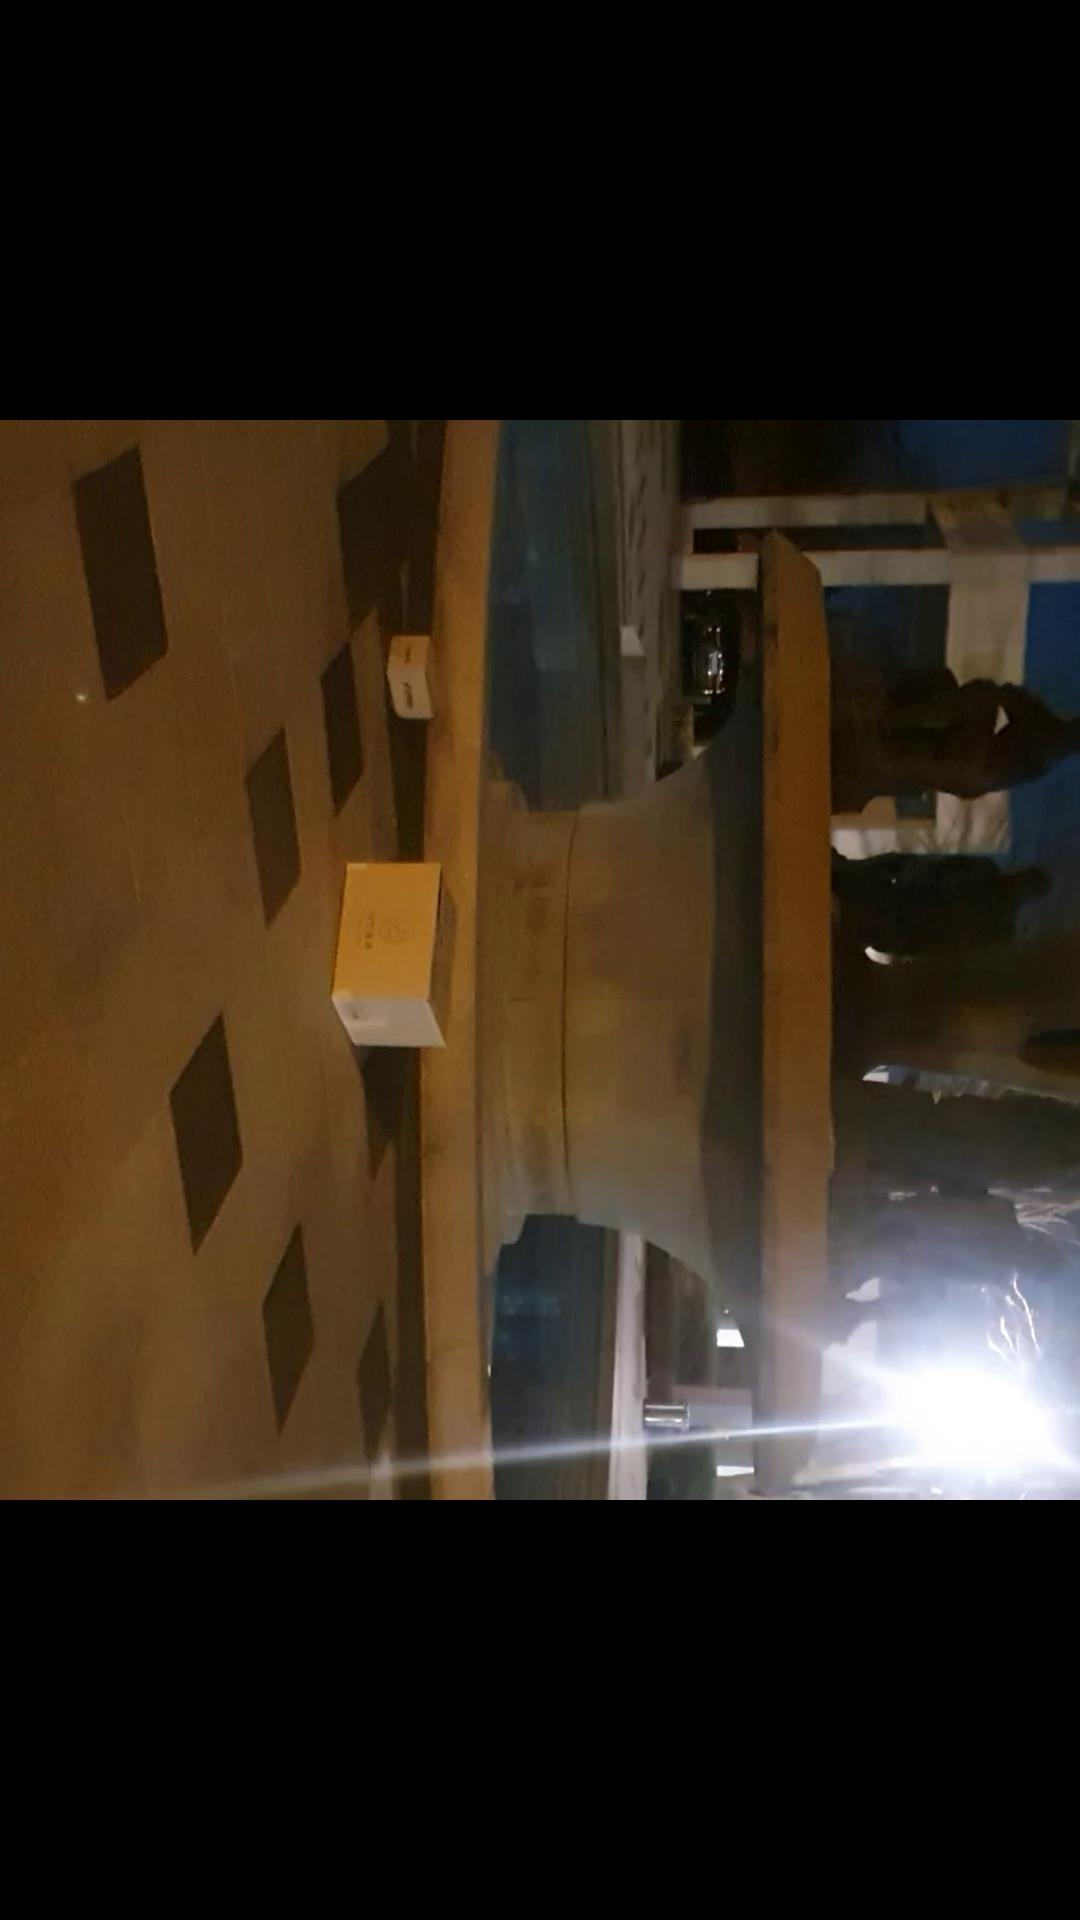Box: (322, 847, 462, 1058), (385, 626, 455, 725)
